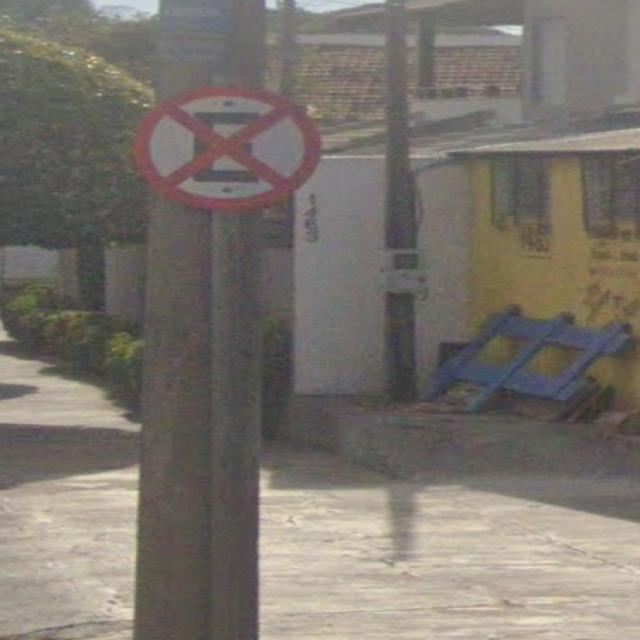no parking: (121, 67, 332, 225)
